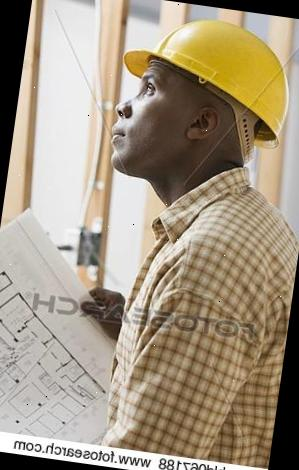helmet: (106, 1, 299, 144)
no_wear: (97, 183, 299, 464)
